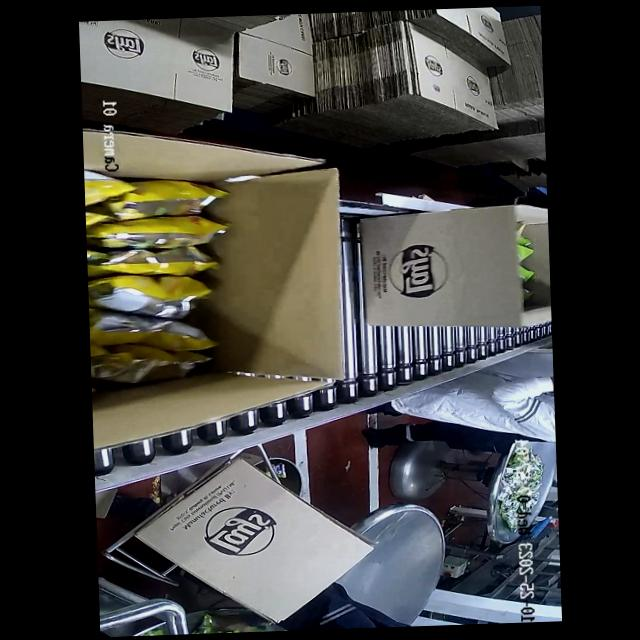salted: (84, 161, 224, 388)
yogurt: (512, 182, 542, 309)
